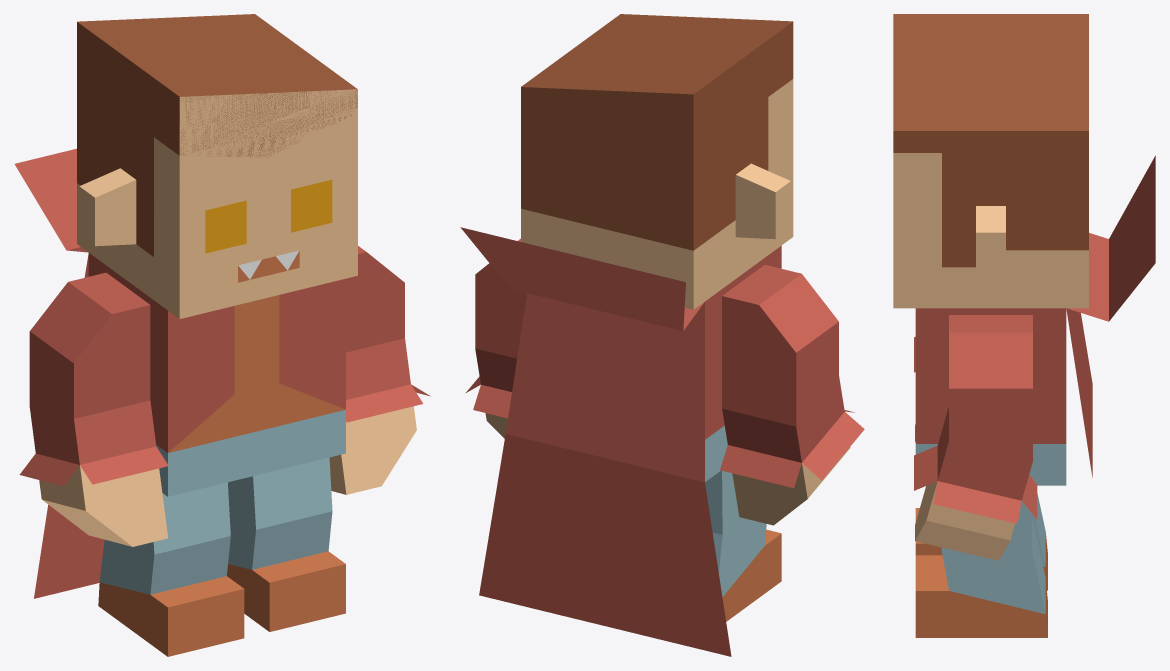
The model's file is vampire.dae.
3 views of the same model, side by side, from view 1: azimuth 30°, elevation 25°; view 2: azimuth 150°, elevation 25°; view 3: azimuth 270°, elevation 25° (orthographic). The views are drawn at different scales.
Visible parts, largest first — view 1: head, body, armLeft, legLeft, legRight, armRight, cape; view 2: cape, head, armLeft, legLeft, armRight, body; view 3: head, armRight, legRight, body, cape, legLeft.
Boxes of the visible parts, <box> form: head: <box>77,14,357,318</box>; body: <box>88,253,345,496</box>; armLeft: <box>19,272,168,546</box>; legLeft: <box>98,482,244,656</box>; legRight: <box>227,457,345,631</box>; armRight: <box>329,246,430,494</box>; cape: <box>14,148,104,598</box>; cape: <box>460,227,731,656</box>; head: <box>521,14,793,309</box>; armLeft: <box>720,265,864,525</box>; legLeft: <box>705,470,781,621</box>; armRight: <box>466,238,526,438</box>; body: <box>705,245,781,481</box>; head: <box>893,14,1088,308</box>; armRight: <box>914,315,1037,560</box>; legRight: <box>915,501,1047,637</box>; body: <box>915,308,1066,485</box>; cape: <box>1066,155,1155,477</box>; legLeft: <box>915,493,1047,590</box>.
Size of the model in its own units: 0.5371 by 0.7932 by 0.3489.
